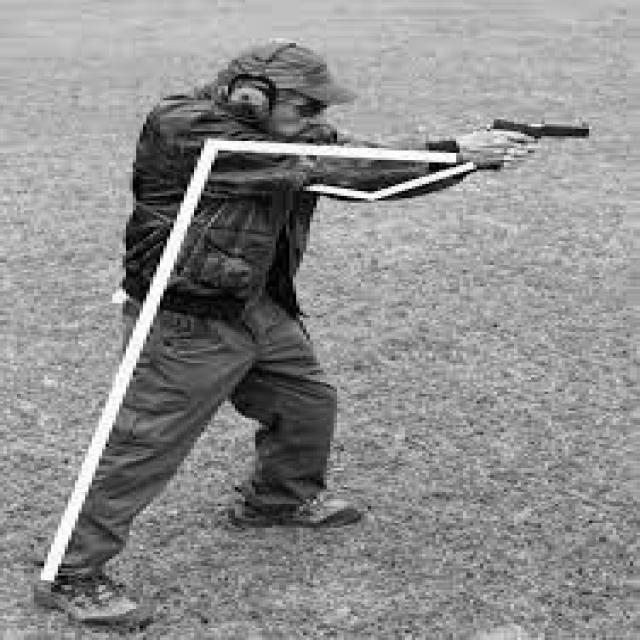gun: (480, 121, 592, 170)
